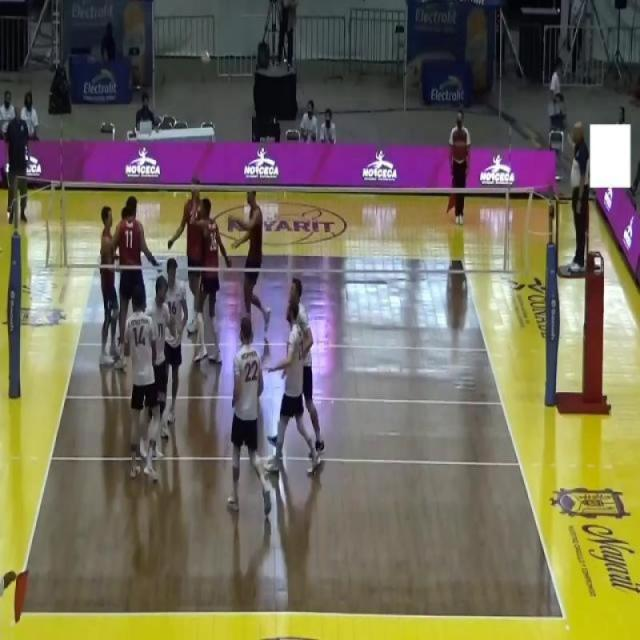volleyball: (200, 49, 211, 66)
